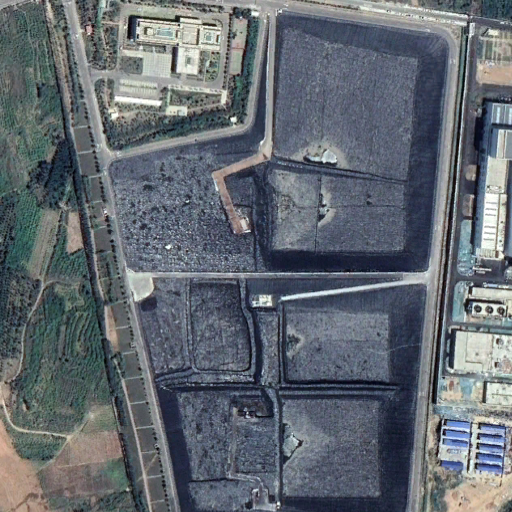lf: (108, 14, 448, 512)
